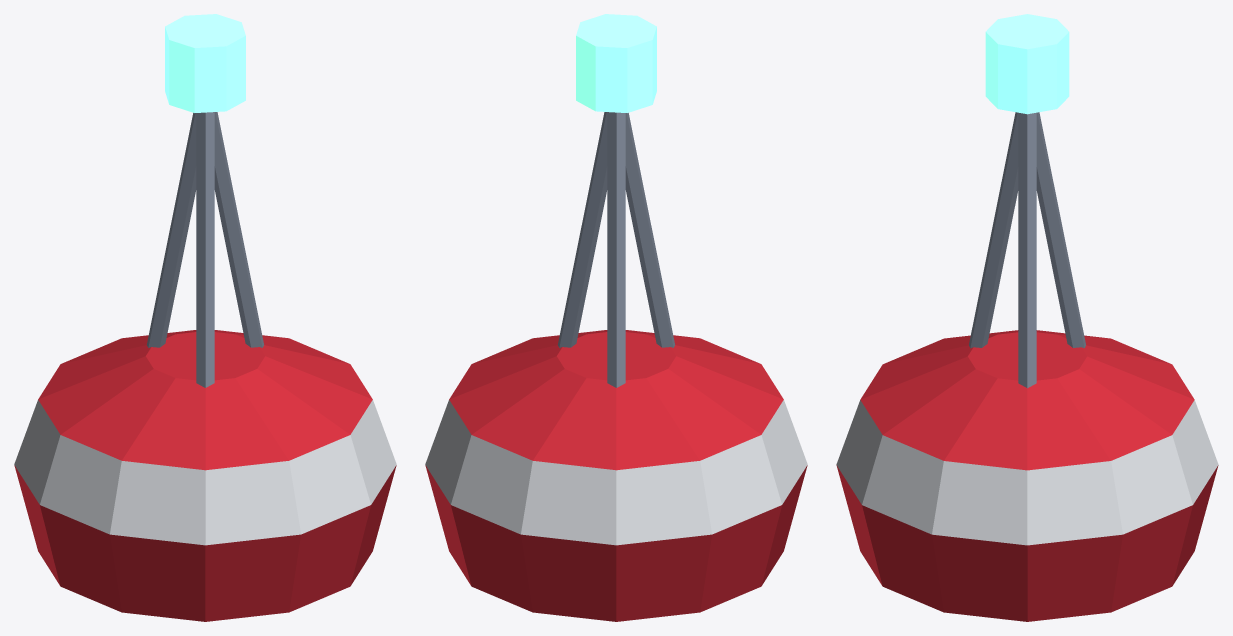
The model's file is Buoy.fbx.
The picture shows the model from 3 angles, left to right: view 1: azimuth 30°, elevation 25°; view 2: azimuth 150°, elevation 25°; view 3: azimuth 270°, elevation 25°; orthographic projection.
Parts seen in each view (by area): view 1: Buoy, Neon_Green; view 2: Buoy, Neon_Green; view 3: Buoy, Neon_Green.
Part boxes in pixels (bbox=[...]): Buoy: bbox=[14, 112, 396, 621]; Neon_Green: bbox=[165, 14, 245, 112]; Buoy: bbox=[425, 112, 807, 621]; Neon_Green: bbox=[576, 14, 656, 112]; Buoy: bbox=[836, 112, 1218, 621]; Neon_Green: bbox=[985, 14, 1069, 114].
Size of the model in its own units: 3.2 by 5 by 3.2.
2 materials, 1 textured.
